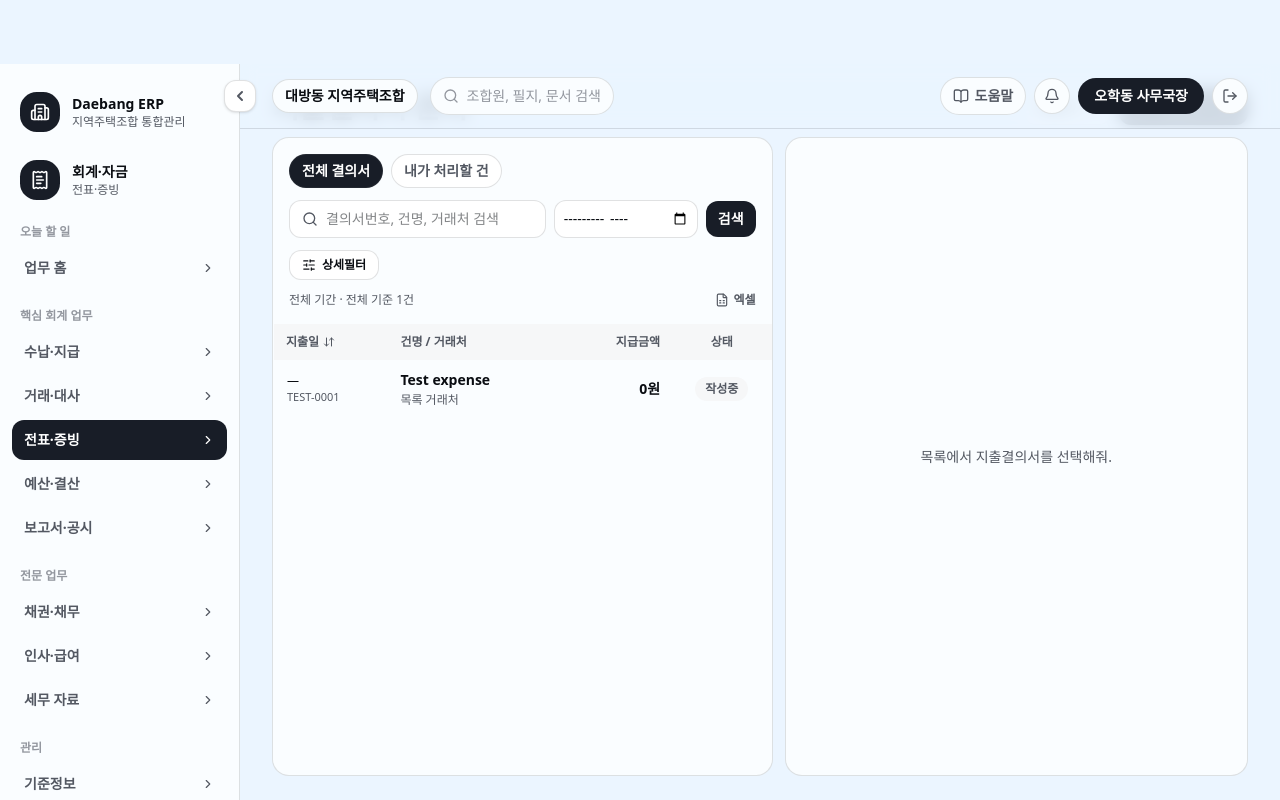
it: ExpenseResolutionPage › loads authoritative child data only when a resolution detail is opened
Click the button with aria-label "상세보기".
click(470, 380)  # box [400,370,541,390]
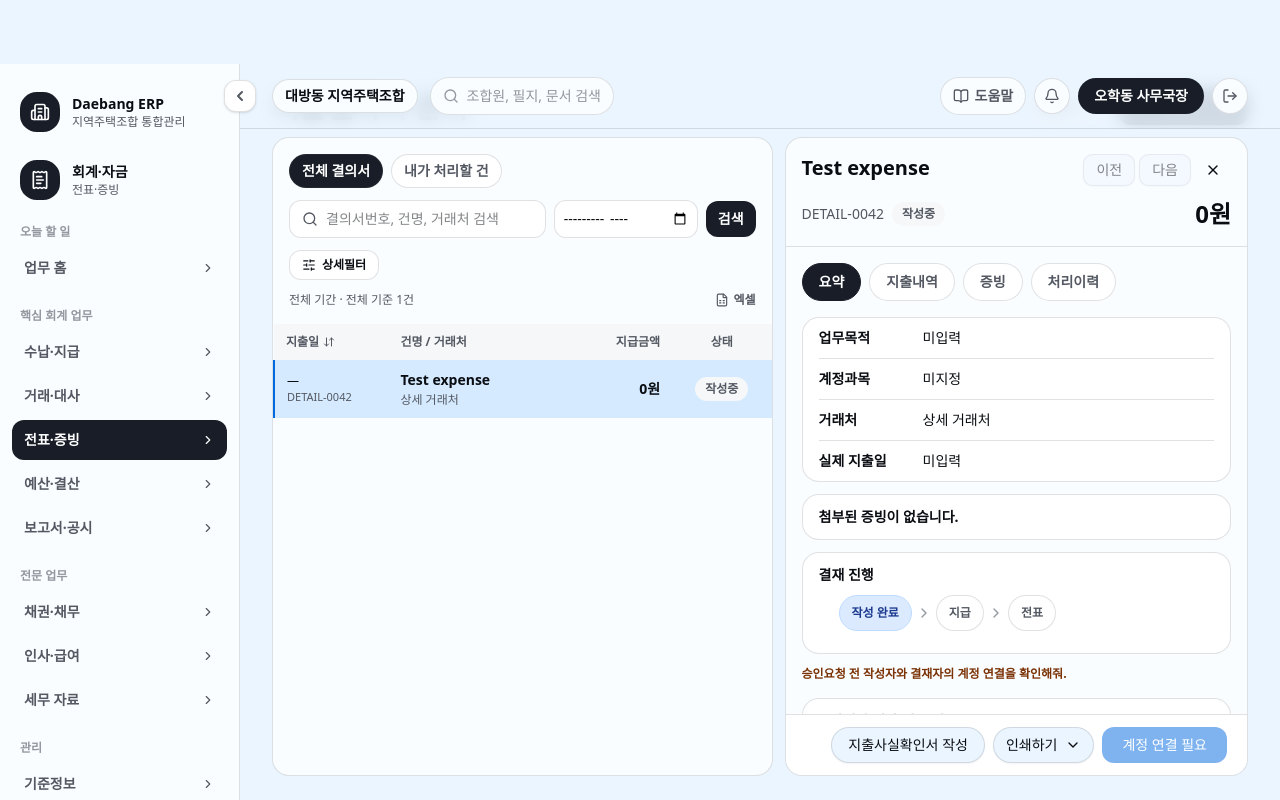
expect the text "DETAIL-0042" is shown: met, box [802,204,884,224]
